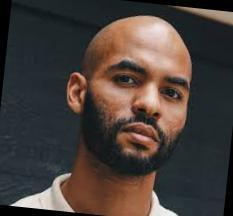Sober: (96, 23, 187, 159)
